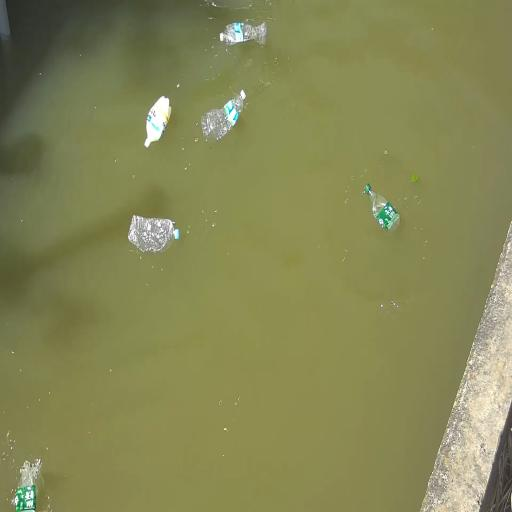plastic: (201, 90, 245, 140), (128, 215, 179, 254), (365, 184, 399, 230), (12, 458, 41, 511), (145, 96, 171, 147), (220, 22, 266, 45)
